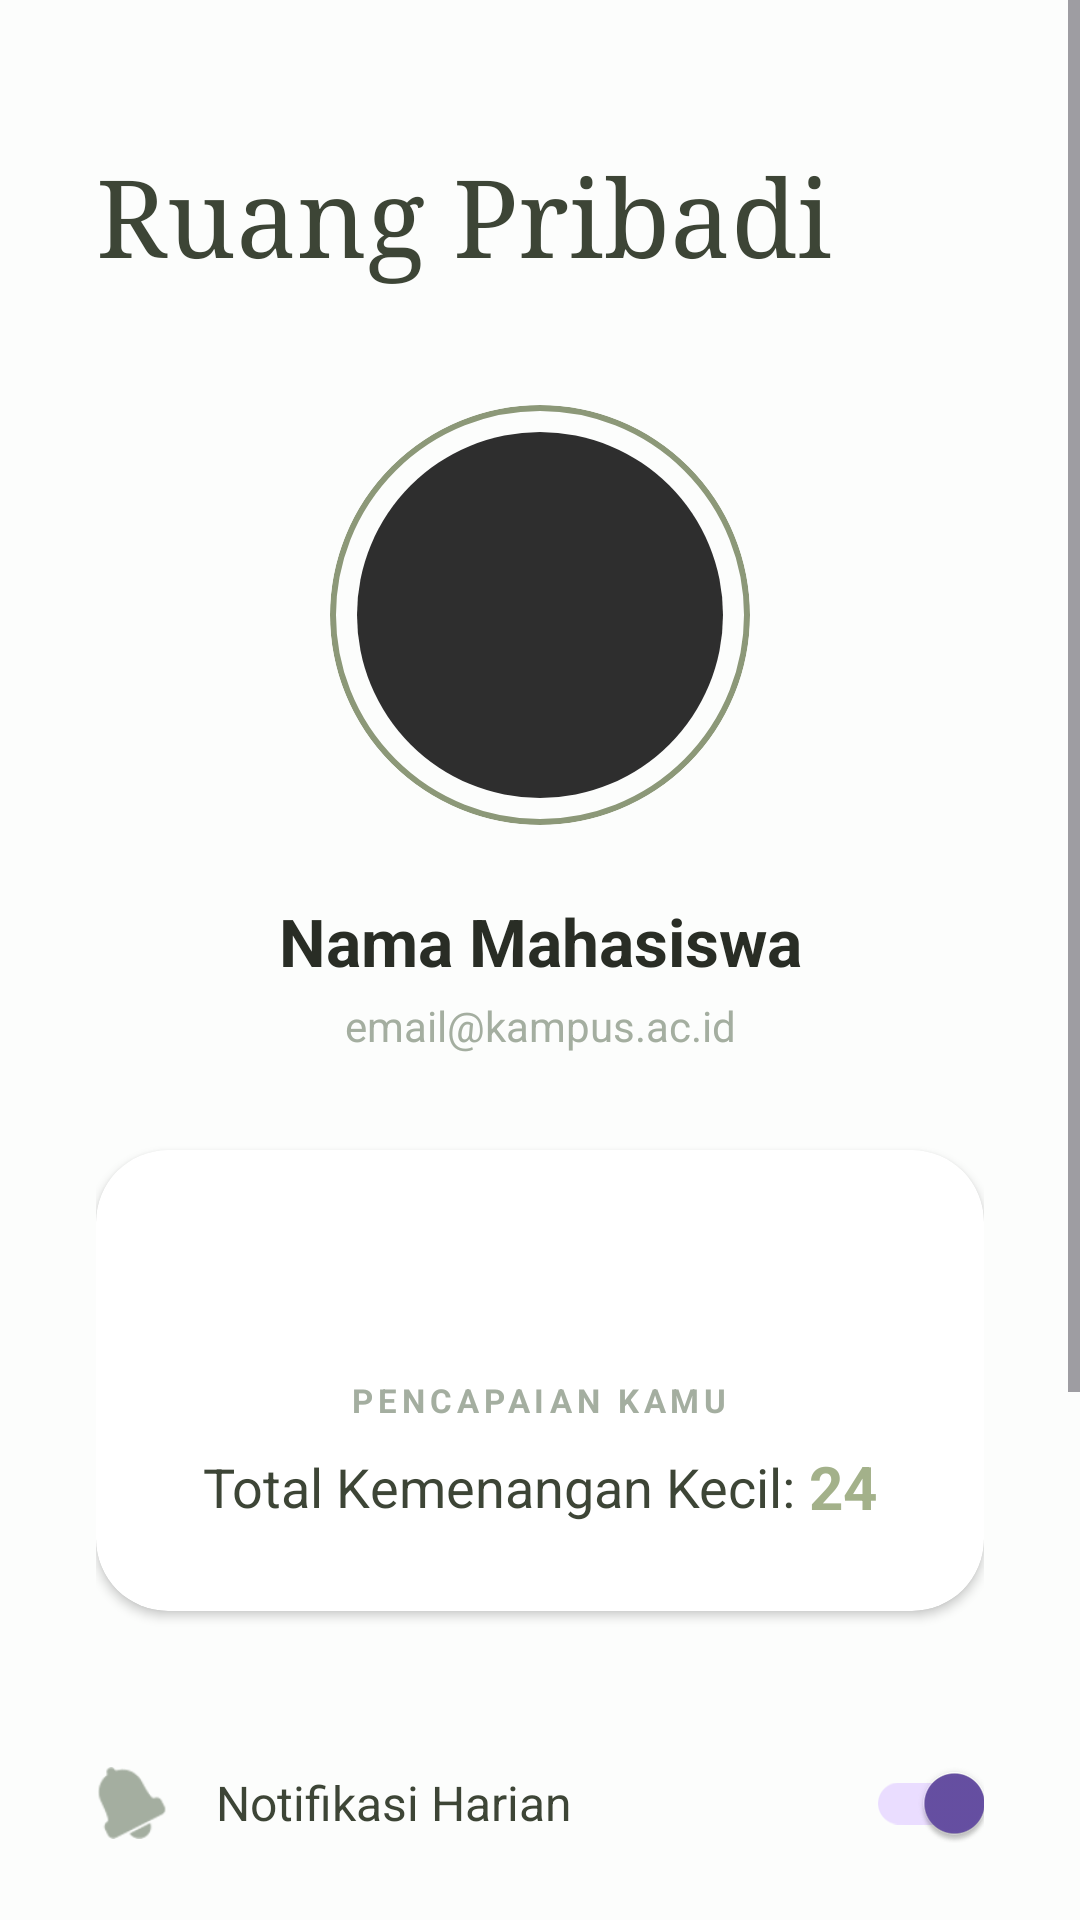

Locate icon controls on the screen. Image size 1080px×1920px, boxes as (left=x1, top=y1, right=x2, bottom=y2).
popup reminder: (left=98, top=1767, right=166, bottom=1839)
